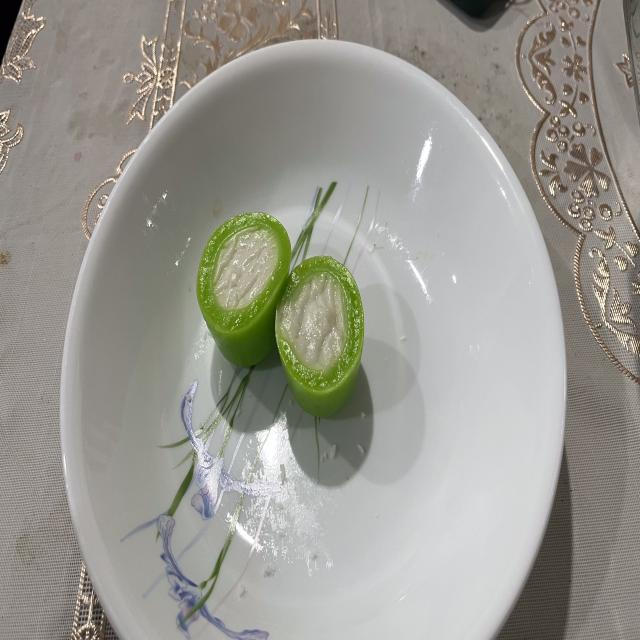nona-manis: (196, 213, 291, 367), (275, 256, 364, 418)
